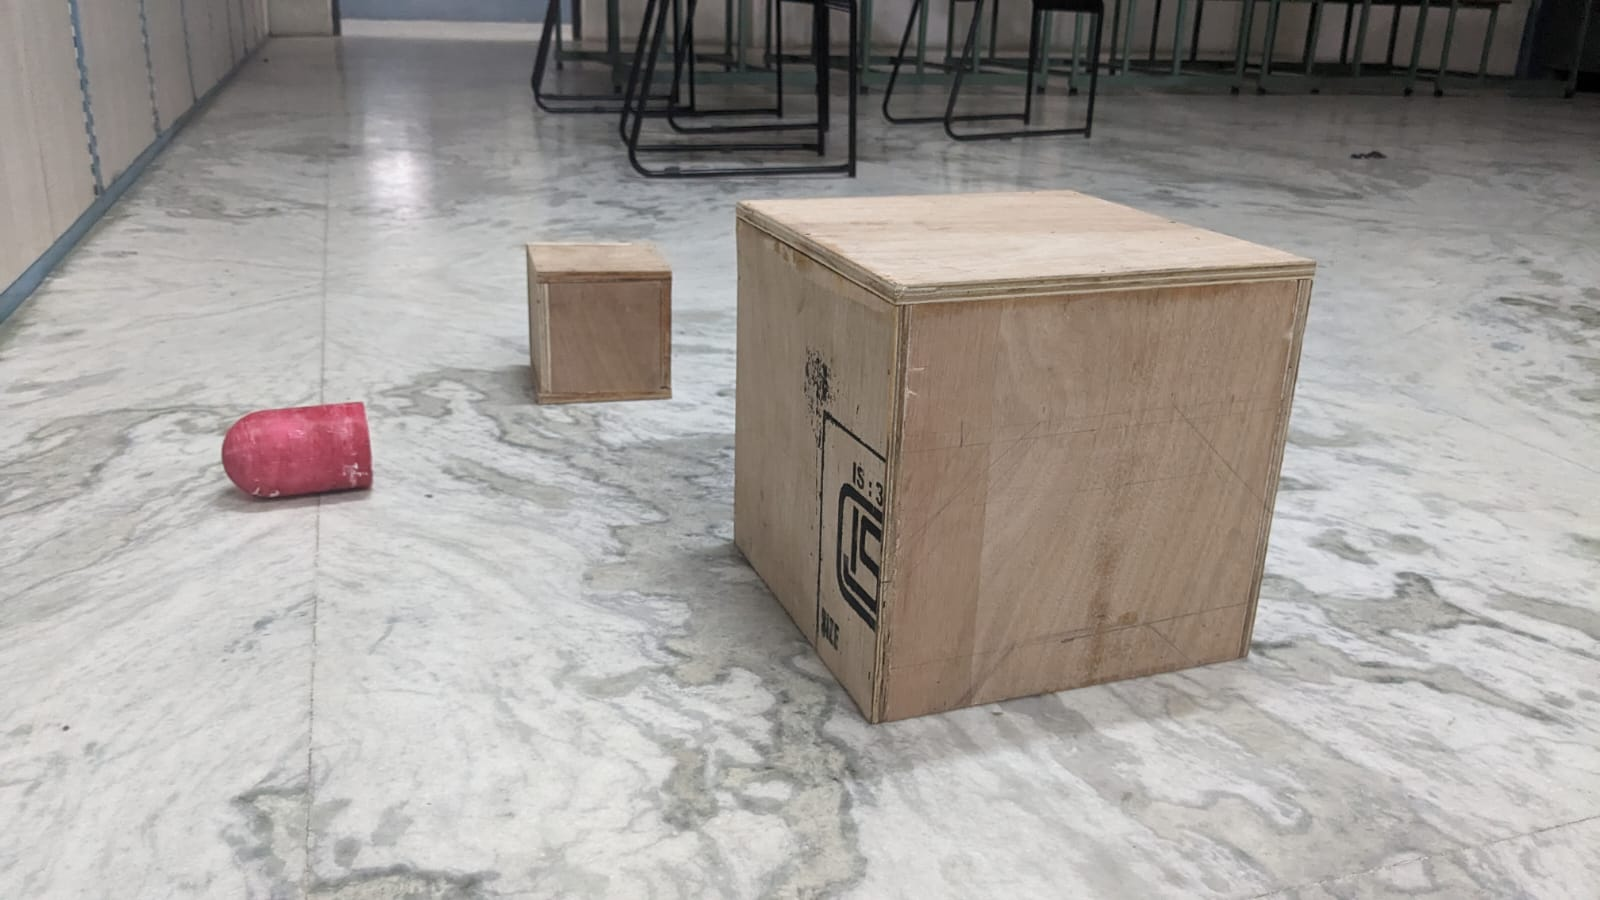150mm obstacle: (514, 231, 692, 416)
300mm obstacle: (714, 178, 1333, 738)
testtube: (213, 393, 393, 512)
